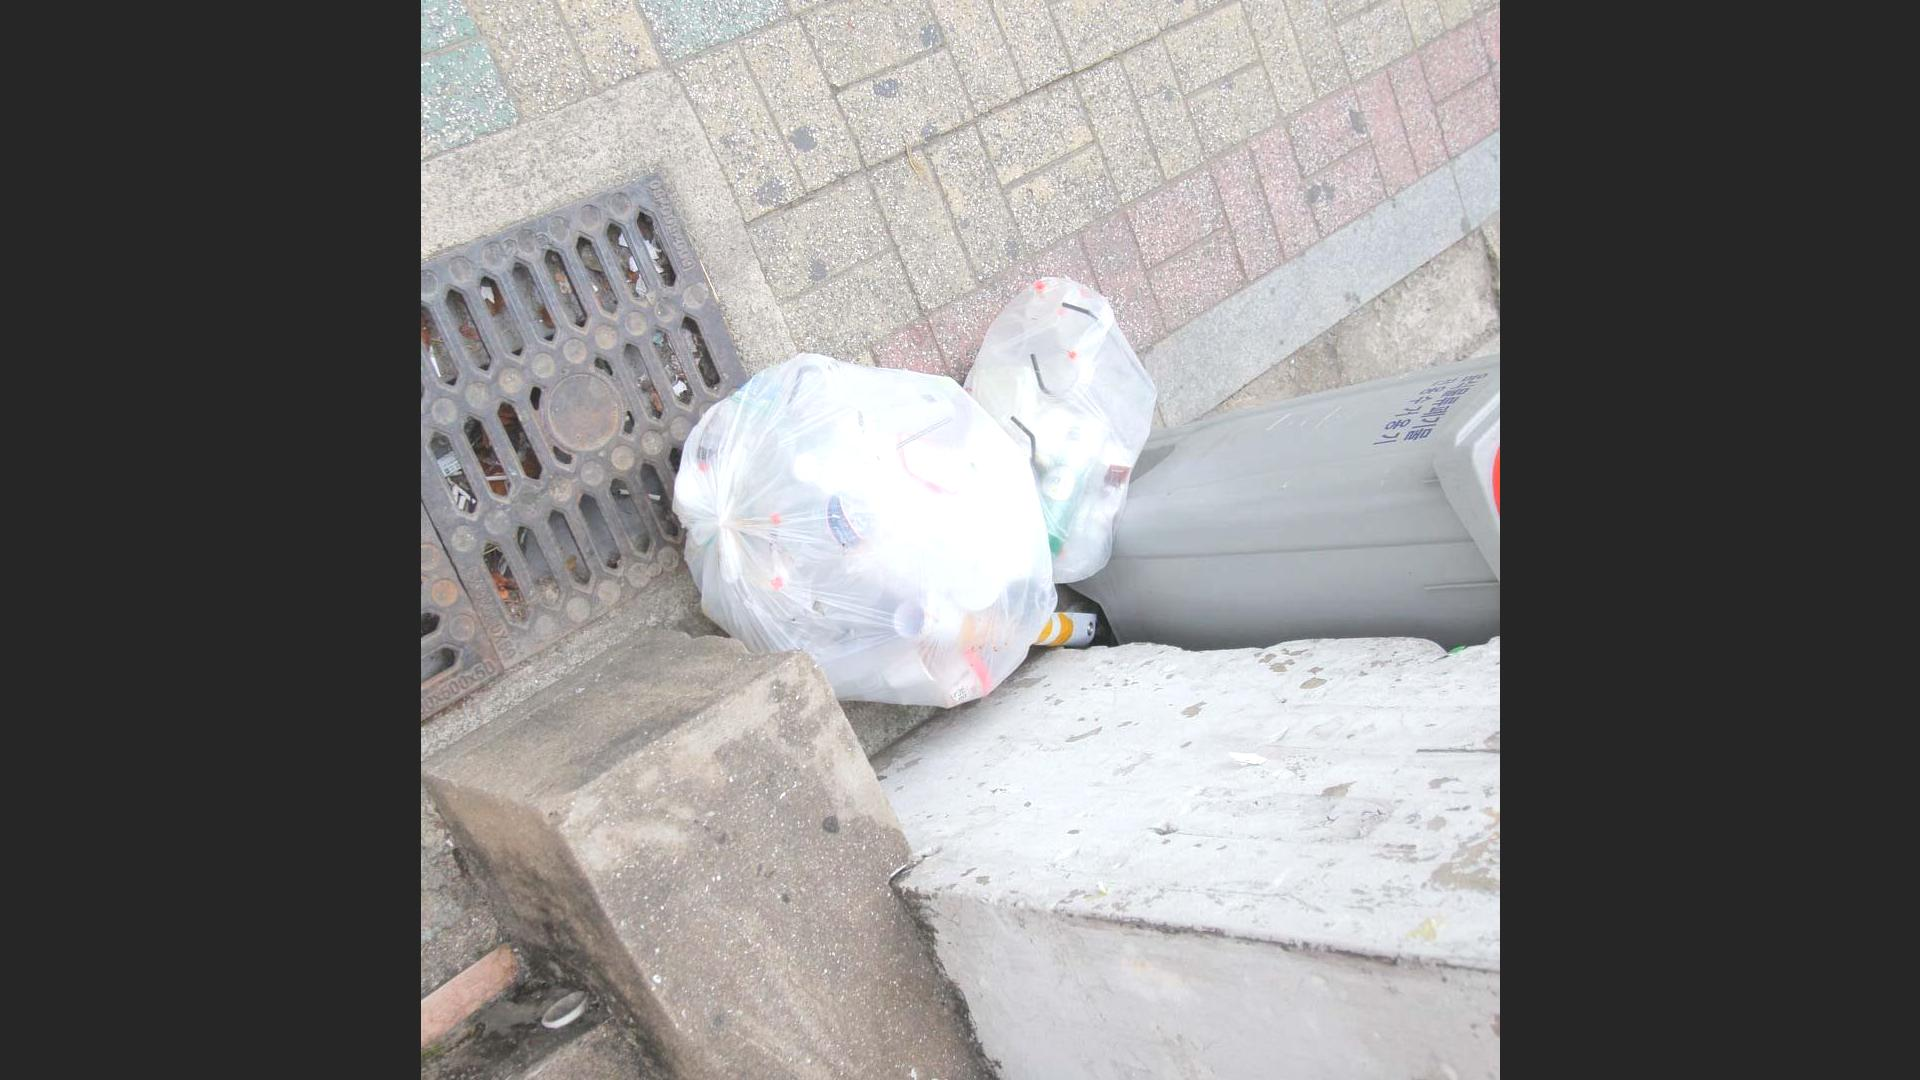white_bag: (662, 328, 1065, 720), (960, 269, 1174, 597)
